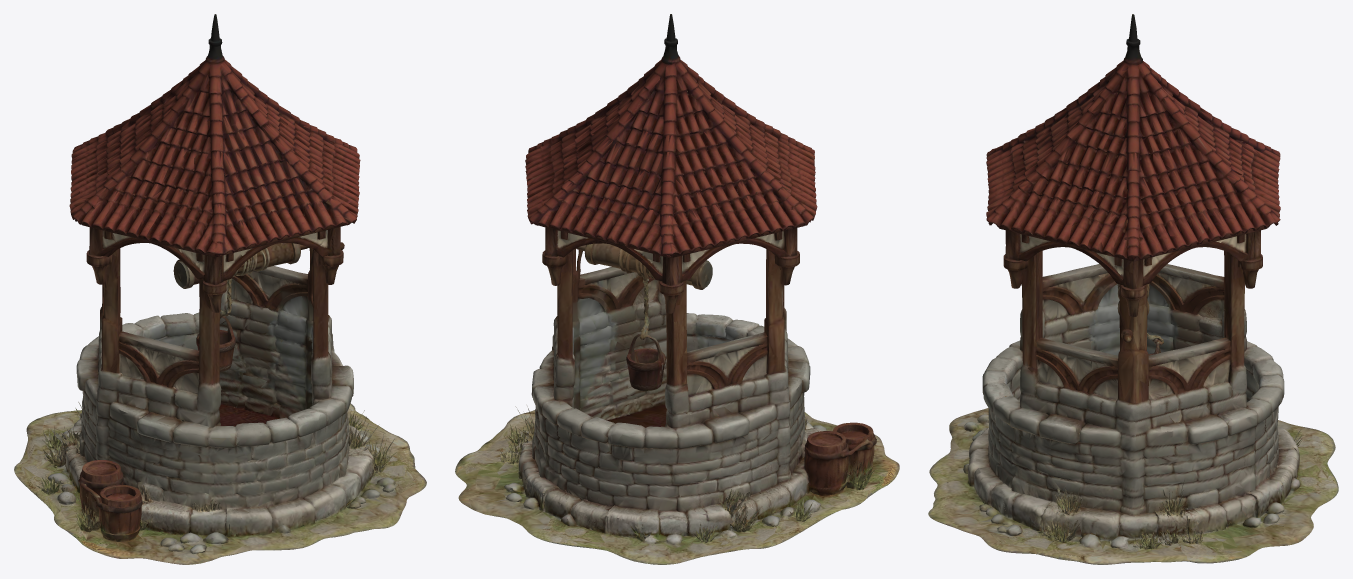
File: OakHillWell_150k.glb
3 views of the same model, side by side, from view 1: azimuth 30°, elevation 25°; view 2: azimuth 150°, elevation 25°; view 3: azimuth 270°, elevation 25° (orthographic).
Visible parts, largest first — view 1: Mesh_0; view 2: Mesh_0; view 3: Mesh_0.
Part boxes in pixels (x1,y1,x2,y2): Mesh_0: [14, 14, 426, 564]; Mesh_0: [455, 14, 899, 564]; Mesh_0: [928, 14, 1338, 564].
Size of the model in its own units: 1.52 by 1.9 by 1.52.
1 material, 1 textured.
